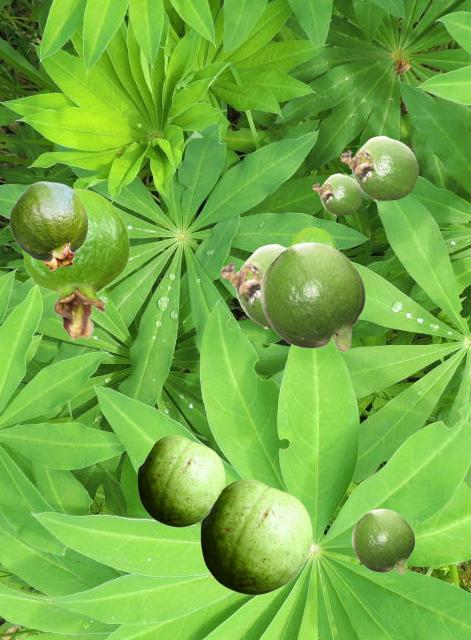guava: (22, 188, 129, 339), (200, 479, 311, 594), (259, 241, 365, 352), (137, 435, 224, 526), (9, 181, 87, 270), (220, 243, 285, 328), (340, 135, 418, 200), (351, 508, 414, 574), (312, 173, 361, 214), (287, 227, 338, 248)
